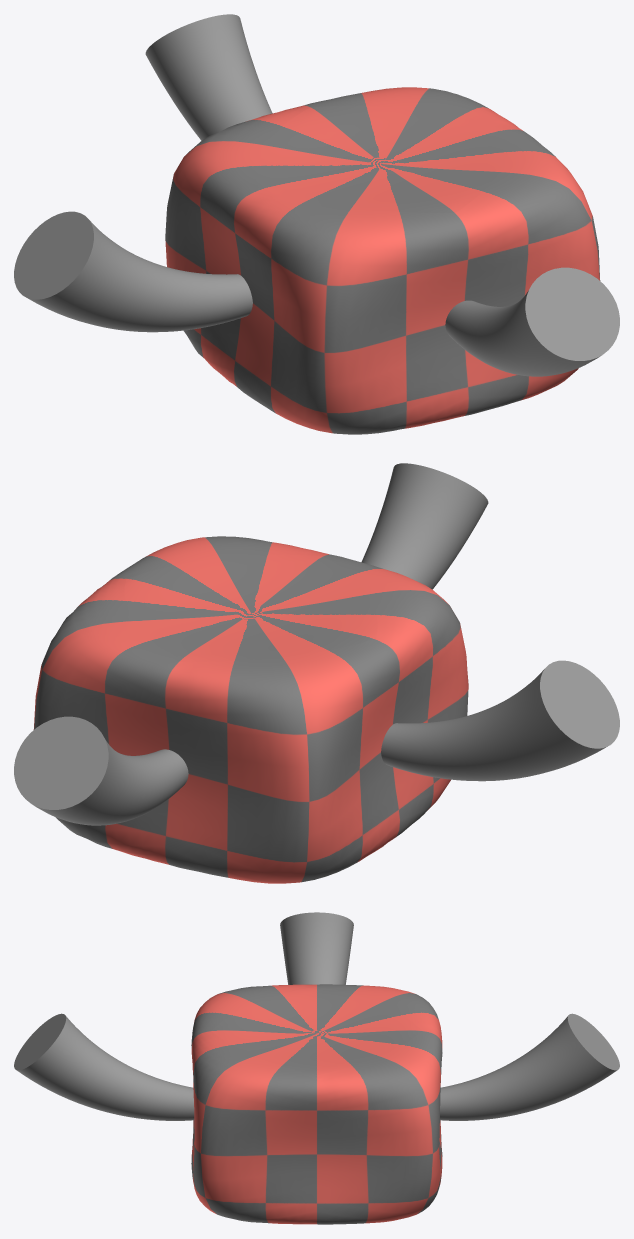
3 views of the same model, one above another, from view 1: azimuth 30°, elevation 25°; view 2: azimuth 150°, elevation 25°; view 3: azimuth 270°, elevation 25° (orthographic). The views are drawn at different scales.
Parts seen in each view (by area): view 1: Box001, Cone003, Cone001, Cone002; view 2: Box001, Cone003, Cone002, Cone001; view 3: Box001, Cone001, Cone002, Cone003.
Boxes of the visible parts, x1=… form: Box001: x1=165, y1=87, x2=600, y2=434; Cone003: x1=14, y1=211, x2=252, y2=332; Cone001: x1=445, y1=267, x2=619, y2=376; Cone002: x1=145, y1=14, x2=272, y2=140; Box001: x1=33, y1=536, x2=468, y2=883; Cone003: x1=381, y1=660, x2=619, y2=781; Cone002: x1=14, y1=716, x2=188, y2=825; Cone001: x1=361, y1=463, x2=488, y2=589; Box001: x1=191, y1=984, x2=442, y2=1224; Cone001: x1=14, y1=1013, x2=194, y2=1120; Cone002: x1=440, y1=1013, x2=619, y2=1120; Cone003: x1=280, y1=912, x2=353, y2=984.
Size of the model in its own units: 52.2 by 21.66 by 73.82.
2 materials, 1 textured.
